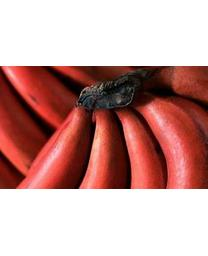banana: (0, 66, 207, 189)
